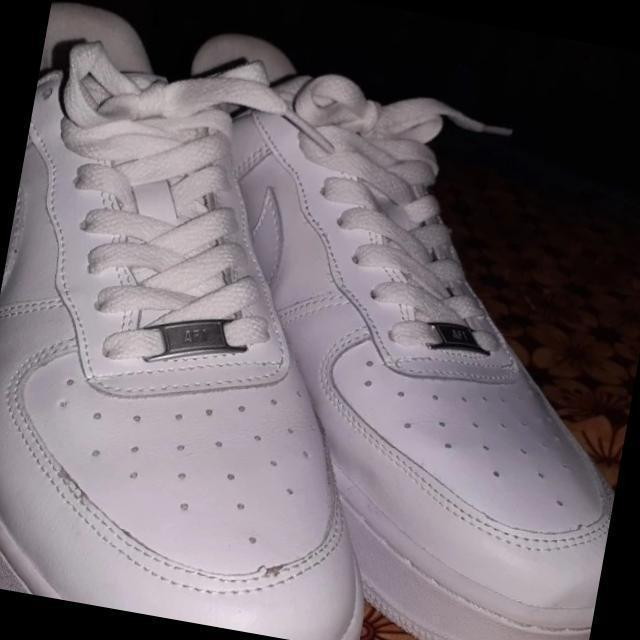nike fake air force: (92, 22, 640, 640), (0, 1, 456, 640)
